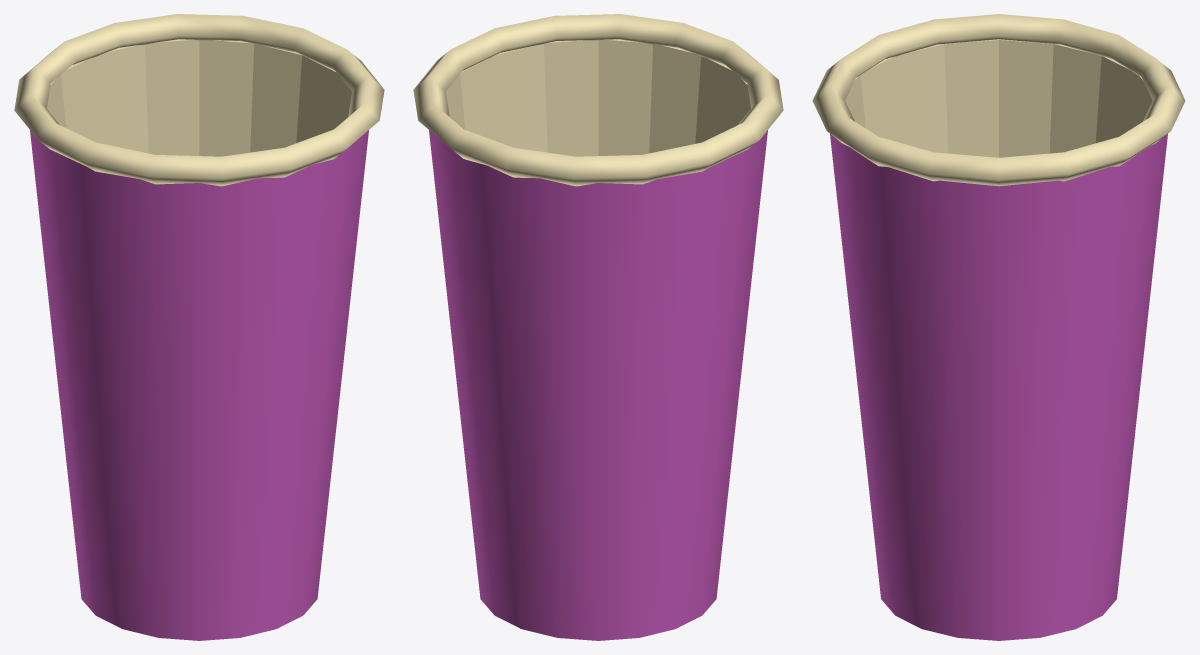
Rendered from mode_goblet.FBX.
The picture shows the model from 3 angles, left to right: view 1: azimuth 30°, elevation 25°; view 2: azimuth 150°, elevation 25°; view 3: azimuth 270°, elevation 25°; orthographic projection.
Visible parts, largest first — view 1: Cylinder001; view 2: Cylinder001; view 3: Cylinder001.
Part boxes in pixels (x1,y1,x2,y2): Cylinder001: [14, 14, 384, 640]; Cylinder001: [413, 14, 783, 640]; Cylinder001: [812, 14, 1185, 640].
Size of the model in its own units: 28 by 41.78 by 28.
Materials: 1 (1 with a texture image).
